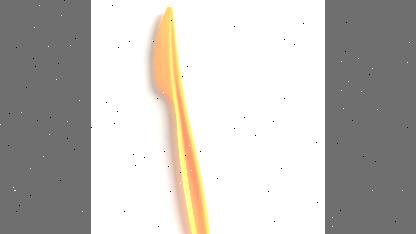Others: (152, 4, 215, 234)
